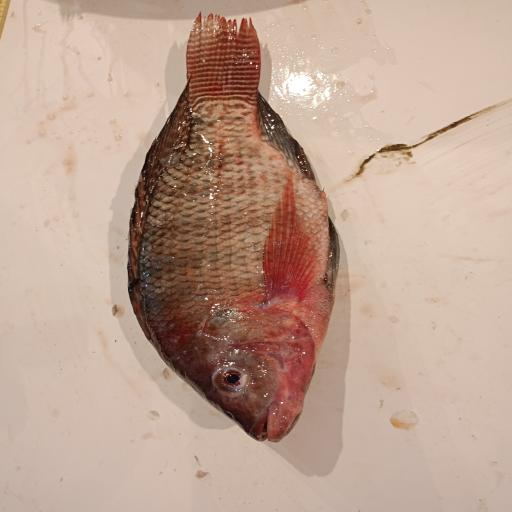Tilapia: (127, 11, 341, 443)
